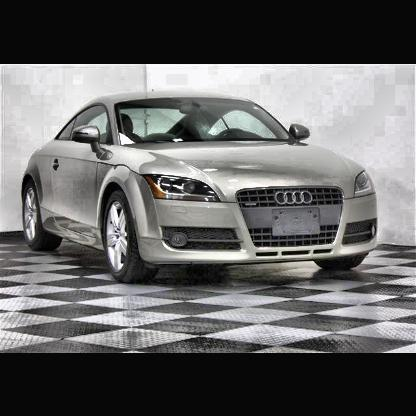Audi TTS Coupe 2012: (22, 91, 380, 289)
